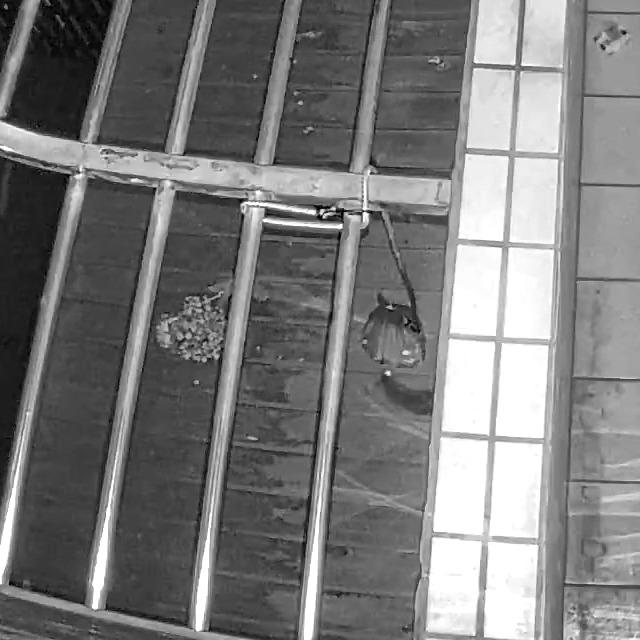rat: (373, 368, 434, 418)
